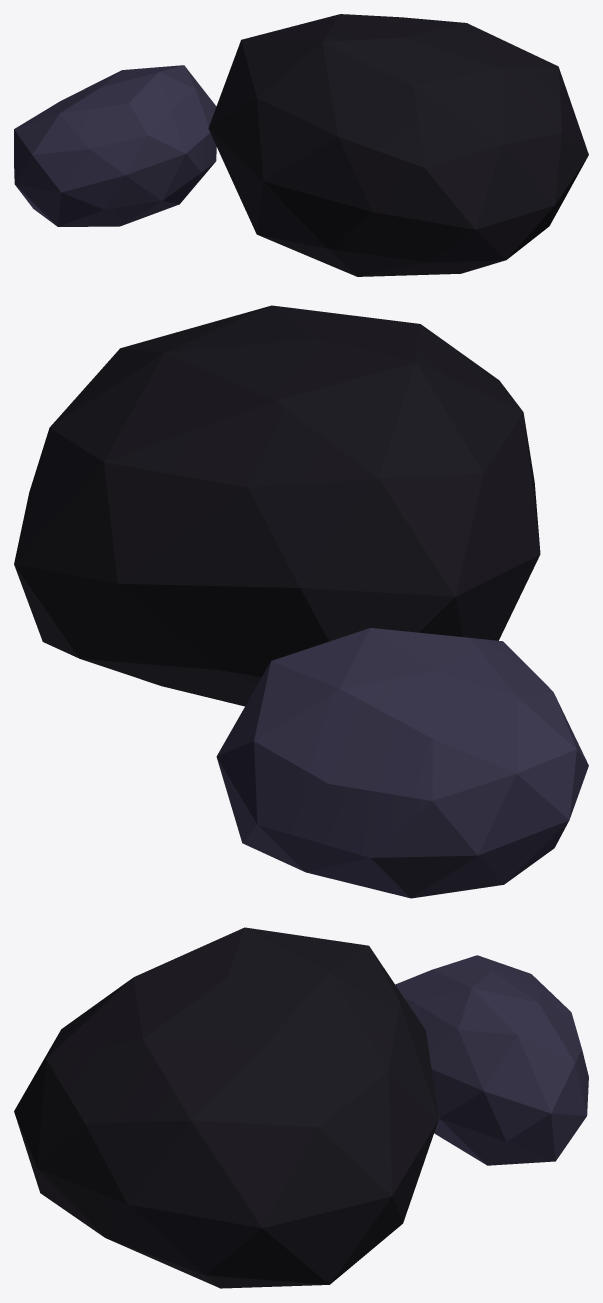
File: Stones_03.fbx
The picture shows the model from 3 angles, top to bottom: view 1: azimuth 30°, elevation 25°; view 2: azimuth 150°, elevation 25°; view 3: azimuth 270°, elevation 25°; orthographic projection. The views are drawn at different scales.
Visible parts, largest first — view 1: Stone_03; view 2: Stone_03; view 3: Stone_03.
Part boxes in pixels (box(x1,y1,x2,y2)): Stone_03: box(14, 14, 588, 276); Stone_03: box(14, 305, 588, 898); Stone_03: box(14, 927, 588, 1288).
Bounding box in the file's own units: 130 × 63.92 × 123.
